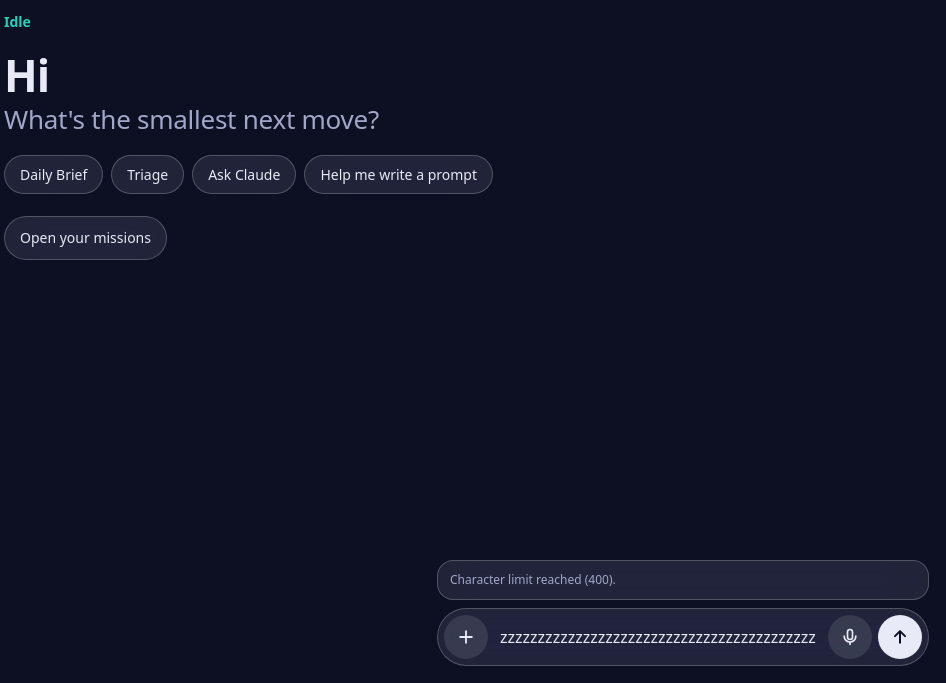
Test: HomeTab never cuts a question silently › blocks Prompt help when the text no longer fits, and says why
Click the button "Help me write a prompt": (399, 174) [304,155,493,194]
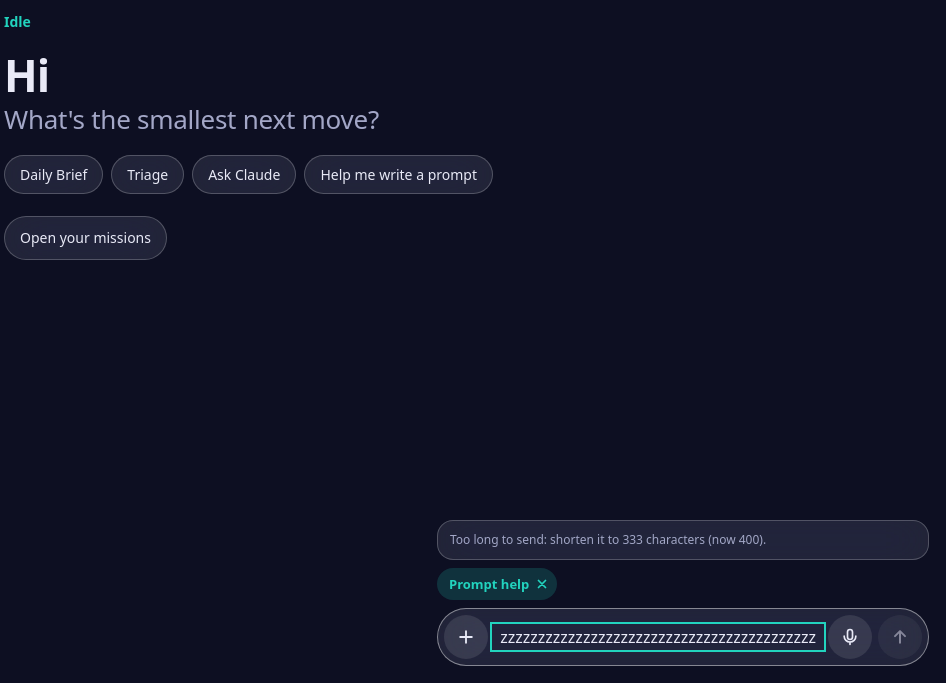
Now the button named "Send" is disabled, box [878,615,922,659]
Now the text "Too long to send: shorten it to 333 characters (now 400)." is shown, box [450,531,766,548]
